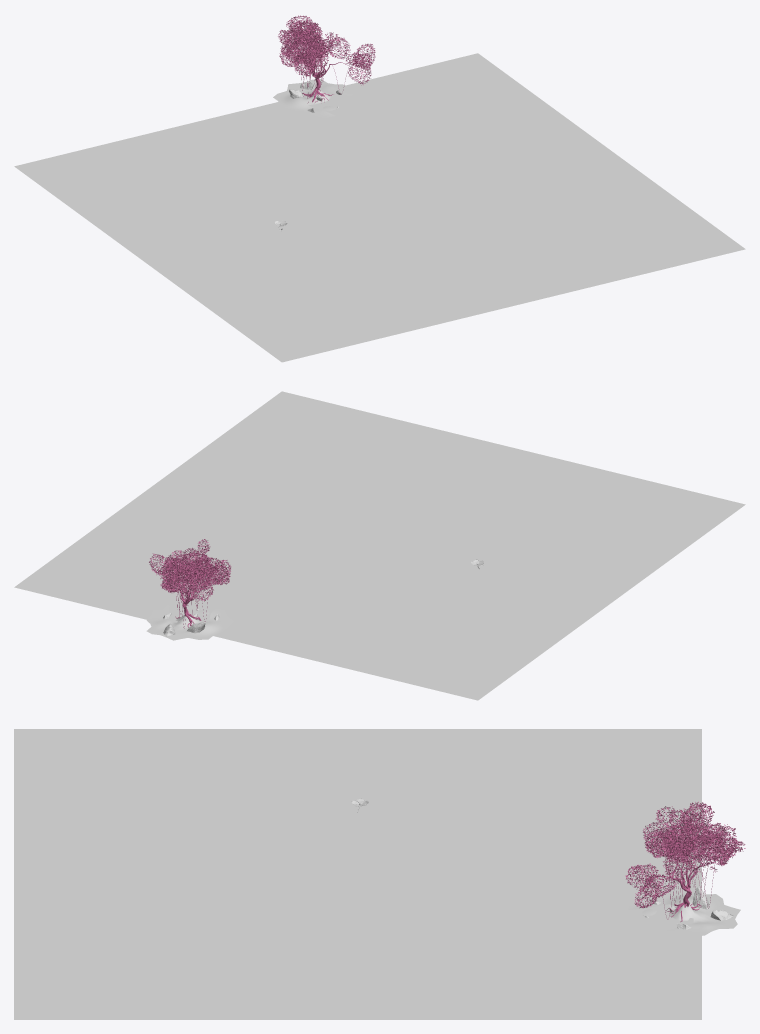
The model's file is flower-v1.glb.
3 views of the same model, one above another, from view 1: azimuth 30°, elevation 25°; view 2: azimuth 150°, elevation 25°; view 3: azimuth 270°, elevation 25° (orthographic). The views are drawn at different scales.
Parts seen in each view (by area): view 1: Plane, path, Tree, Rocks; view 2: Plane, path, Tree, Rocks; view 3: Plane, path, Tree, Rocks.
Boxes of the visible parts, x1,y1,x2,y2 form: Plane: (14,53,745,362); path: (306,91,482,319); Tree: (278,15,375,103); Rocks: (273,79,363,117); Plane: (14,391,745,700); path: (168,455,581,626); Tree: (149,539,231,628); Rocks: (146,605,234,640); Plane: (14,729,701,1019); path: (20,816,693,936); Tree: (625,801,745,921); Rocks: (628,887,740,939).
Size of the model in its own units: 94.68 by 16.04 by 101.
